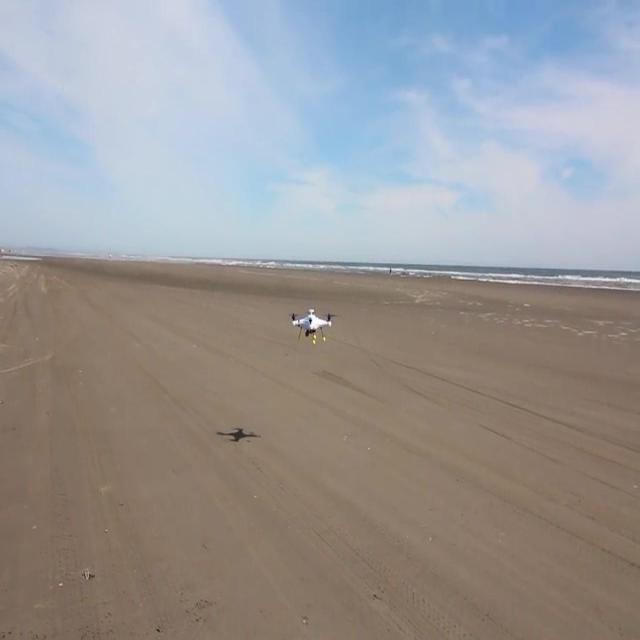drone: (290, 305, 336, 345)
